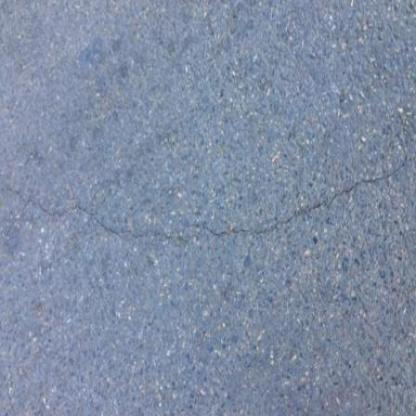Cracks: (1, 141, 416, 253)
